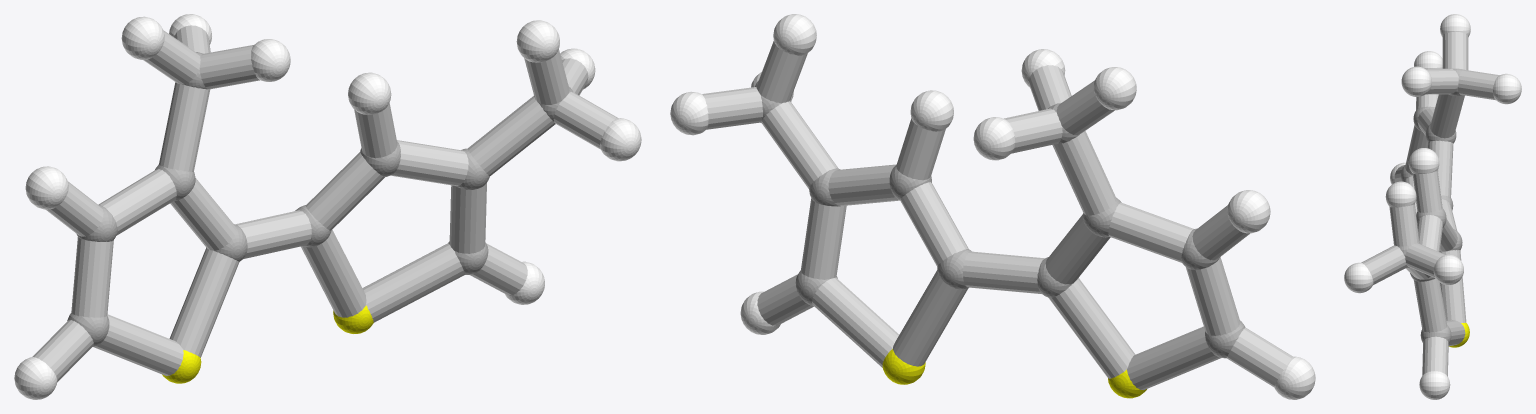
Rendered from Methylthiophene_Phi_15_Theta_200_Methylthiophene.glb.
The picture shows the model from 3 angles, left to right: view 1: azimuth 30°, elevation 25°; view 2: azimuth 150°, elevation 25°; view 3: azimuth 270°, elevation 25°; orthographic projection. The views are drawn at different scales.
Parts seen in each view (by area): view 1: grp7965, grp3621, grp1, grp7241; view 2: grp7965, grp3621, grp1, grp7241; view 3: grp7965, grp3621, grp1.
Boxes of the visible parts, x1,y1,x2,y2 form: grp7965: [32, 25, 618, 381]; grp3621: [14, 14, 641, 399]; grp1: [67, 52, 572, 346]; grp7241: [162, 305, 373, 383]; grp7965: [702, 41, 1292, 390]; grp3621: [670, 14, 1315, 399]; grp1: [756, 86, 1245, 358]; grp7241: [882, 349, 1146, 398]; grp7965: [1361, 31, 1499, 376]; grp3621: [1344, 14, 1521, 399]; grp1: [1398, 68, 1463, 343].
Bounding box in the file's own units: 9.66 × 5.55 × 3.47.
